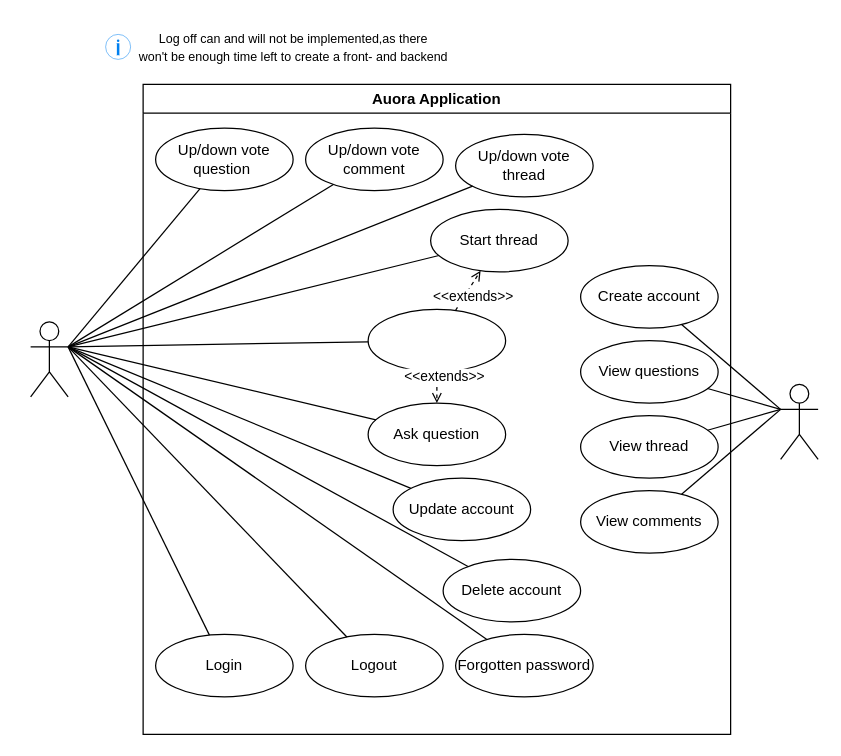
Image size: 841x756. Some labels were removed from this diagram. Here are the shapes that lost their labels. From the top down, the centre of each, then its label:
the point at 48,359: Member
the point at 436,340: Write comment
the point at 798,421: Visitor
